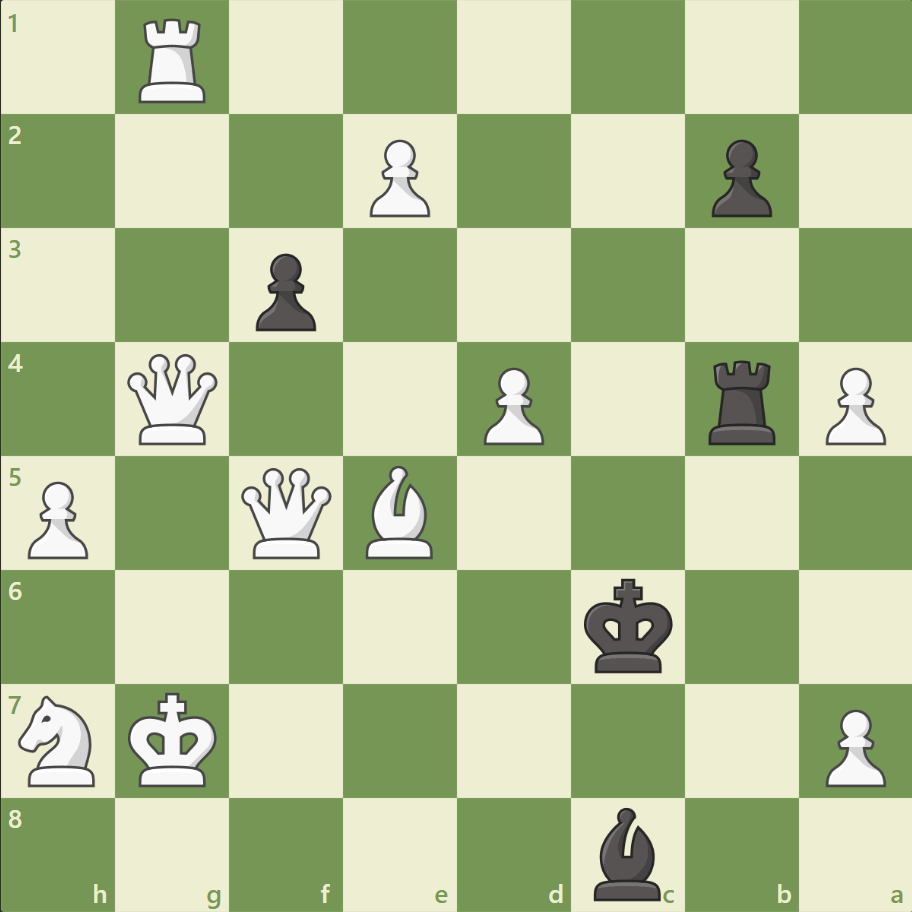B: (358, 460, 442, 563)
K: (124, 685, 224, 793)
N: (11, 688, 108, 791)
P: (20, 473, 95, 564), (474, 359, 549, 450), (815, 700, 889, 791), (815, 359, 889, 450), (361, 132, 435, 223)
Q: (124, 349, 223, 449), (237, 463, 336, 562)
R: (133, 12, 215, 109)
b: (585, 801, 669, 904)
k: (579, 571, 679, 679)
p: (247, 246, 322, 337), (701, 132, 776, 223)
r: (700, 352, 783, 449)
